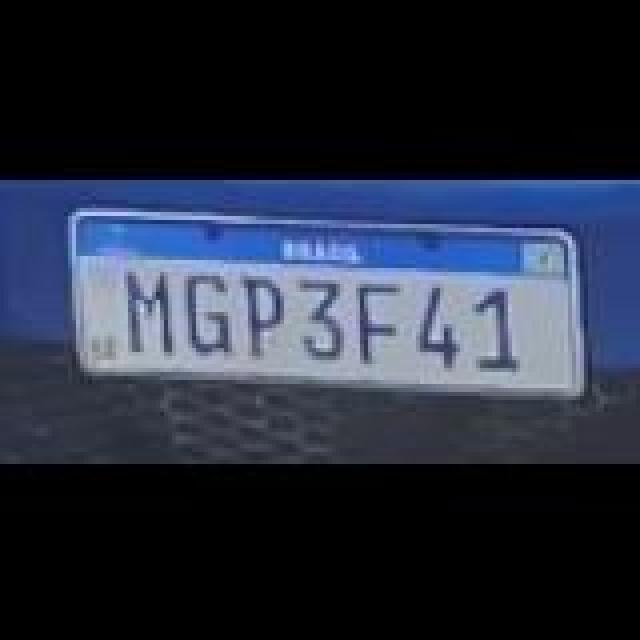1: (470, 286, 522, 370)
3: (290, 276, 350, 356)
4: (414, 282, 466, 366)
F: (352, 278, 408, 362)
G: (174, 270, 234, 354)
M: (122, 264, 182, 352)
P: (236, 270, 292, 354)
